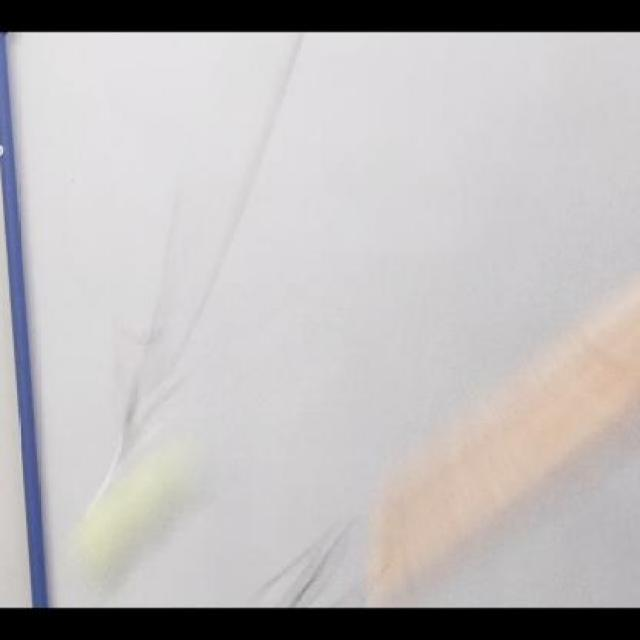baseball: (64, 460, 191, 582)
